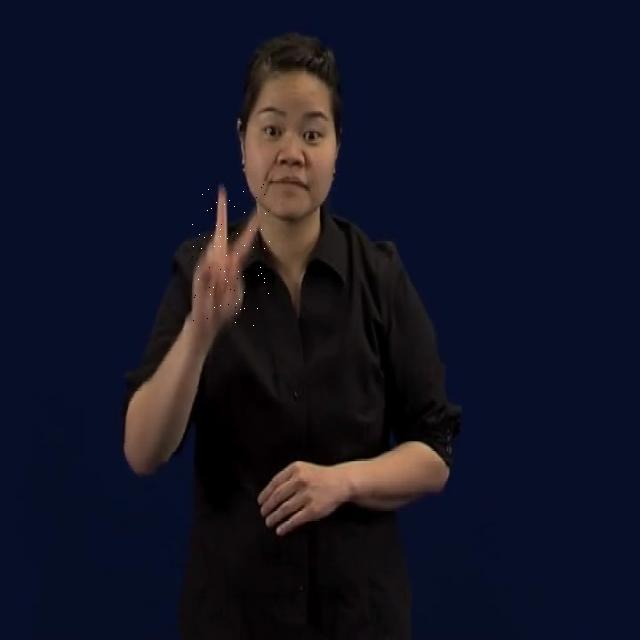vegetables: (190, 182, 270, 326)
